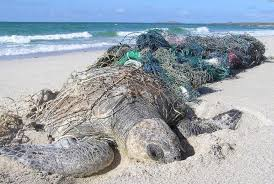net: (133, 31, 209, 88), (210, 32, 266, 76), (92, 40, 141, 68)
